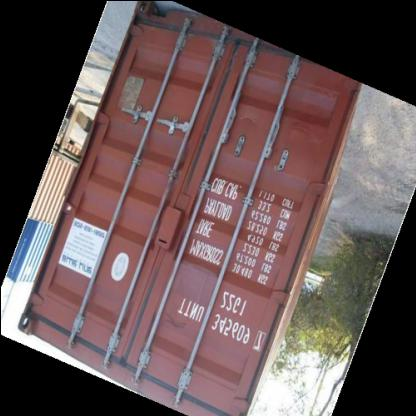Damage: (157, 308, 195, 336), (288, 120, 322, 150), (231, 106, 258, 130)
